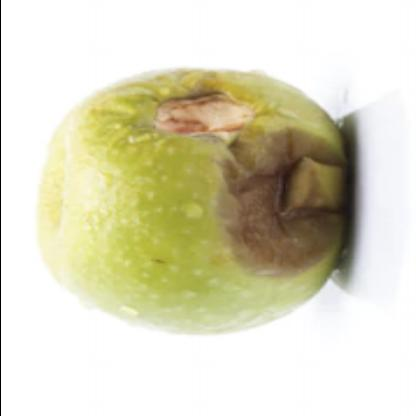Rotten Apple: (38, 70, 340, 336)
